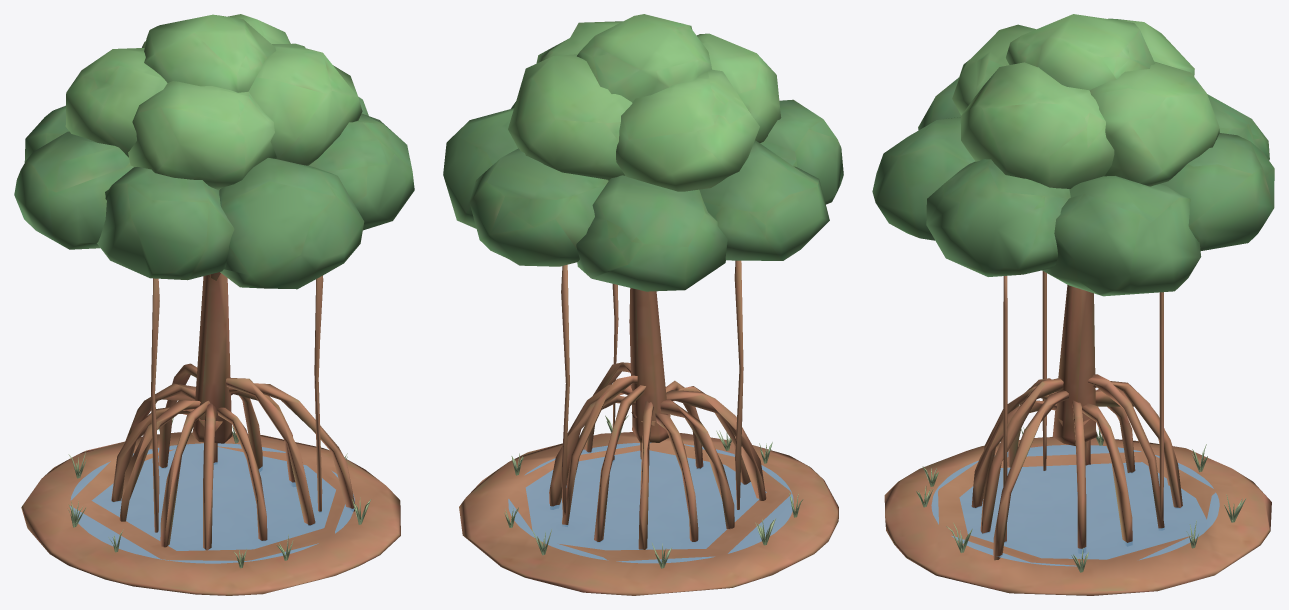
The model's file is mangrove-tree.glb.
3 views of the same model, side by side, from view 1: azimuth 30°, elevation 25°; view 2: azimuth 150°, elevation 25°; view 3: azimuth 270°, elevation 25° (orthographic).
Parts seen in each view (by area): view 1: mangrove-tree_body, mangrove-tree_water; view 2: mangrove-tree_body, mangrove-tree_water; view 3: mangrove-tree_body, mangrove-tree_water.
Part boxes in pixels (bbox=[...]): mangrove-tree_body: bbox=[14, 14, 414, 595]; mangrove-tree_water: bbox=[70, 443, 354, 563]; mangrove-tree_body: bbox=[443, 14, 843, 595]; mangrove-tree_water: bbox=[508, 442, 793, 563]; mangrove-tree_body: bbox=[872, 14, 1274, 595]; mangrove-tree_water: bbox=[931, 445, 1219, 566].
Size of the model in its own units: 4.36 by 5.74 by 4.24.
2 materials, 1 textured.
